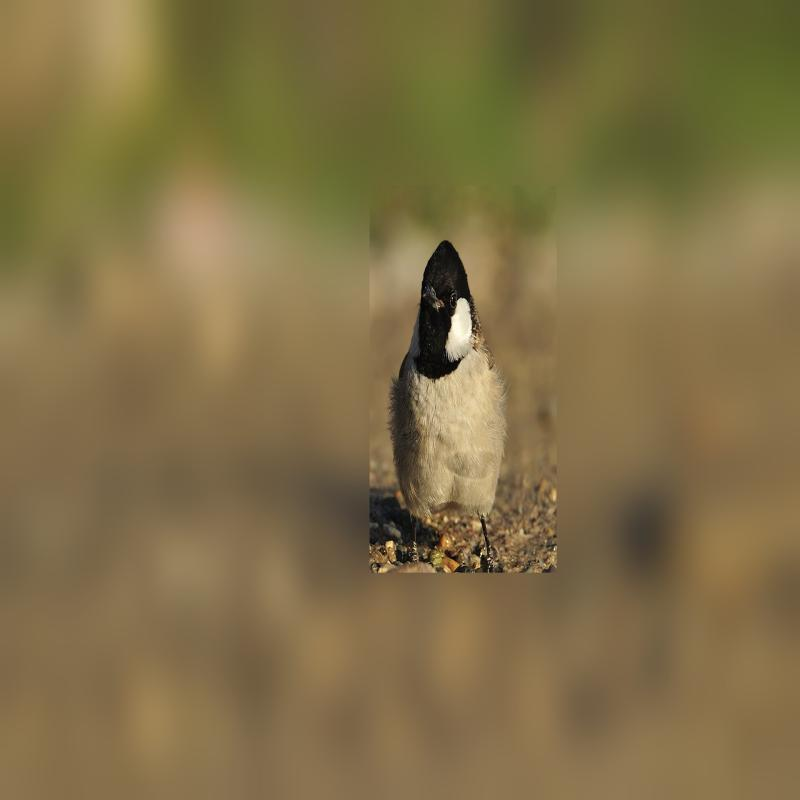white-eared bulbul: (381, 235, 516, 552)
